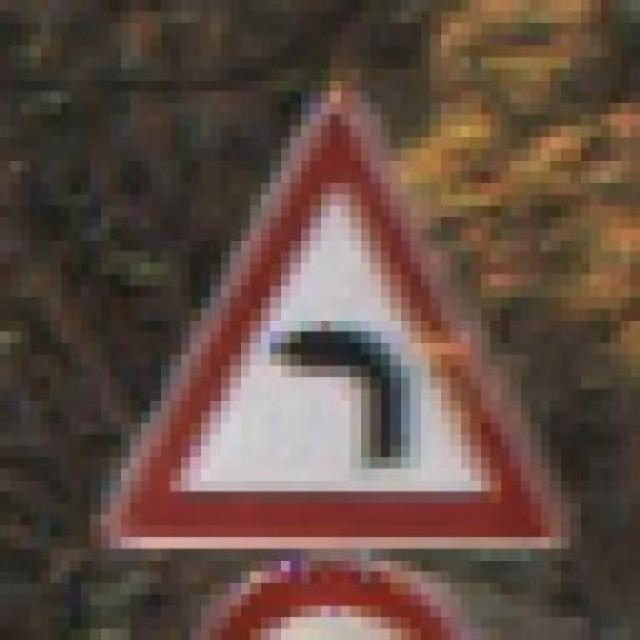Dangerous Left Curve Ahead: (90, 91, 570, 572)
